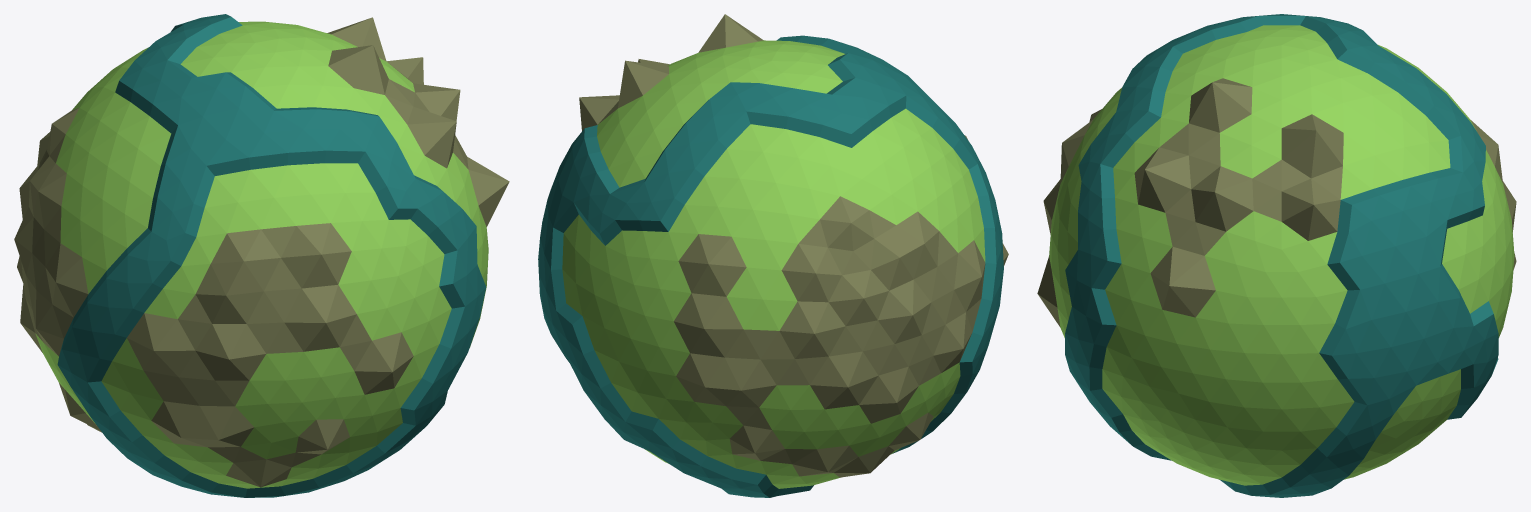
Rendered from Planet5.fbx.
The picture shows the model from 3 angles, left to right: view 1: azimuth 30°, elevation 25°; view 2: azimuth 150°, elevation 25°; view 3: azimuth 270°, elevation 25°; orthographic projection. The views are drawn at different scales.
Visible parts, largest first — view 1: Icosphere; view 2: Icosphere; view 3: Icosphere.
Part boxes in pixels (x1,y1,x2,y2): Icosphere: (14,14,509,497); Icosphere: (538,14,1008,497); Icosphere: (1037,14,1516,497).
Bounding box in the file's own units: 1025 × 1027 × 1029.
